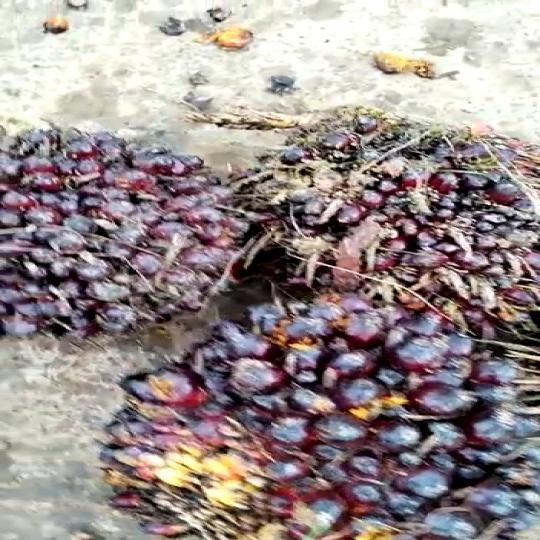kurang masak: (90, 290, 540, 540), (240, 105, 540, 341), (0, 109, 253, 342)
